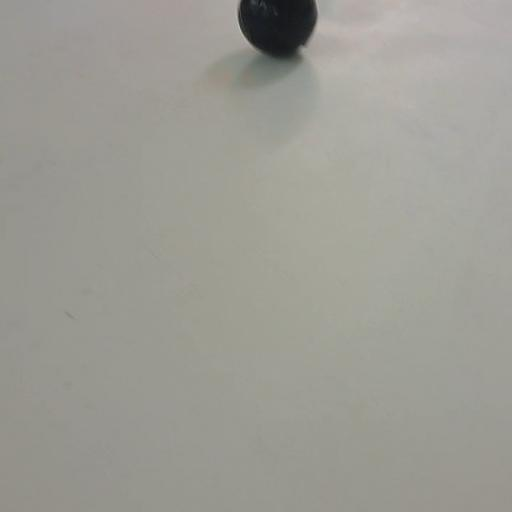dead: (237, 0, 318, 57)
